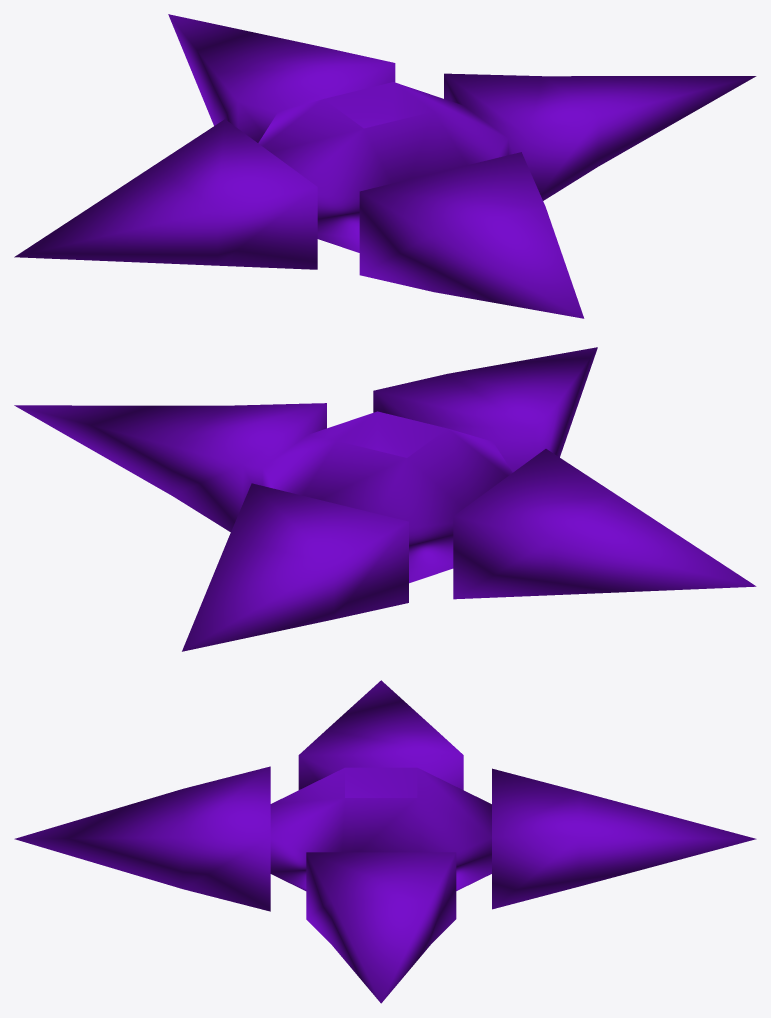
Rendered from characterBallMesh.glb.
3 views of the same model, one above another, from view 1: azimuth 30°, elevation 25°; view 2: azimuth 150°, elevation 25°; view 3: azimuth 270°, elevation 25° (orthographic). The views are drawn at different scales.
Visible parts, largest first — view 1: FarObject; view 2: FarObject; view 3: FarObject.
Boxes of the visible parts, x1=… form: FarObject: x1=14, y1=14, x2=756, y2=318; FarObject: x1=14, y1=347, x2=756, y2=651; FarObject: x1=14, y1=680, x2=756, y2=1003.
Size of the model in its own units: 7.52 by 1.22 by 7.3.
